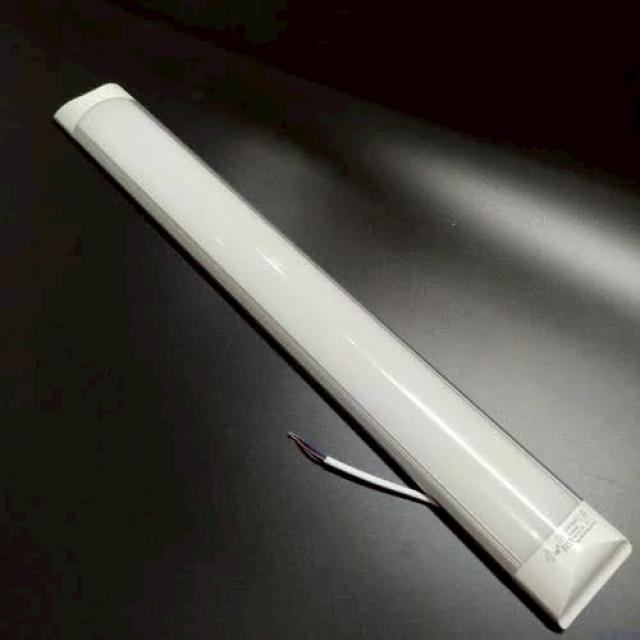bulb: (55, 77, 640, 640)
